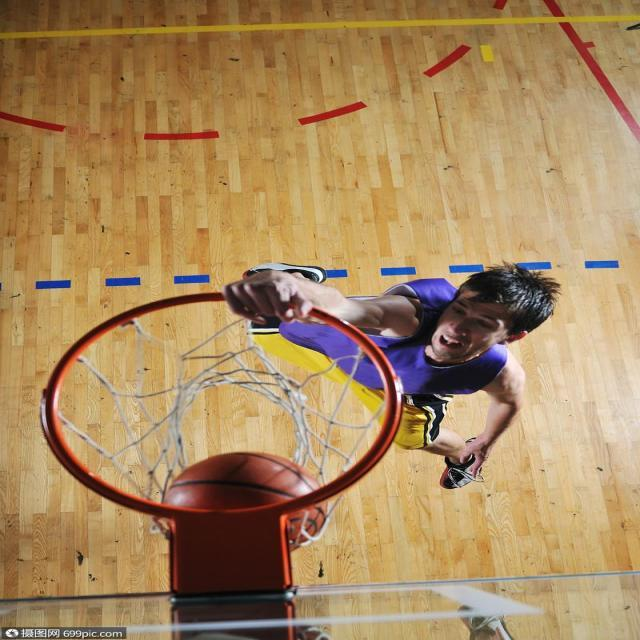rim: (162, 452, 328, 548)
